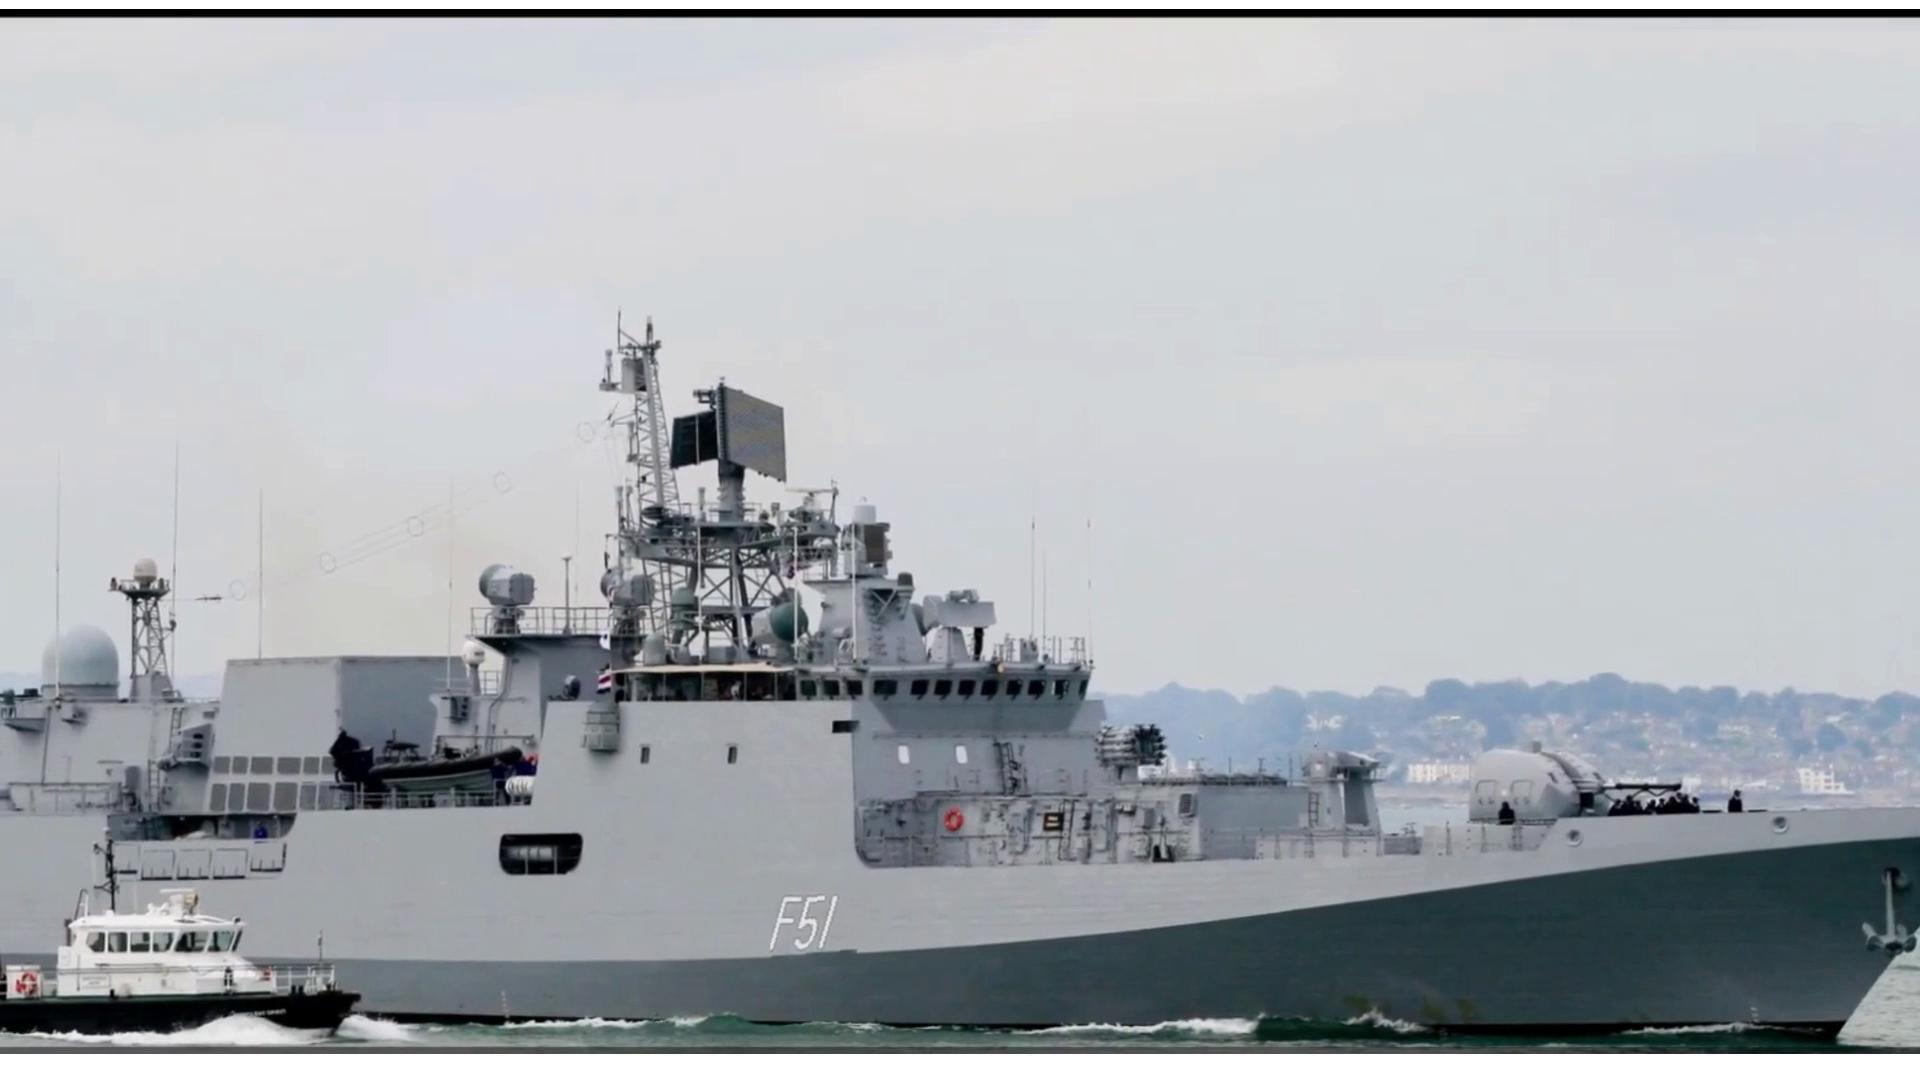OCR: (770, 880, 873, 969)
